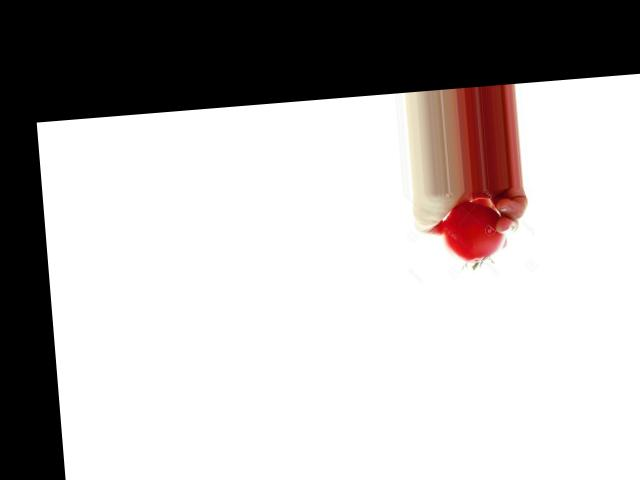tomato: (440, 199, 508, 265)
